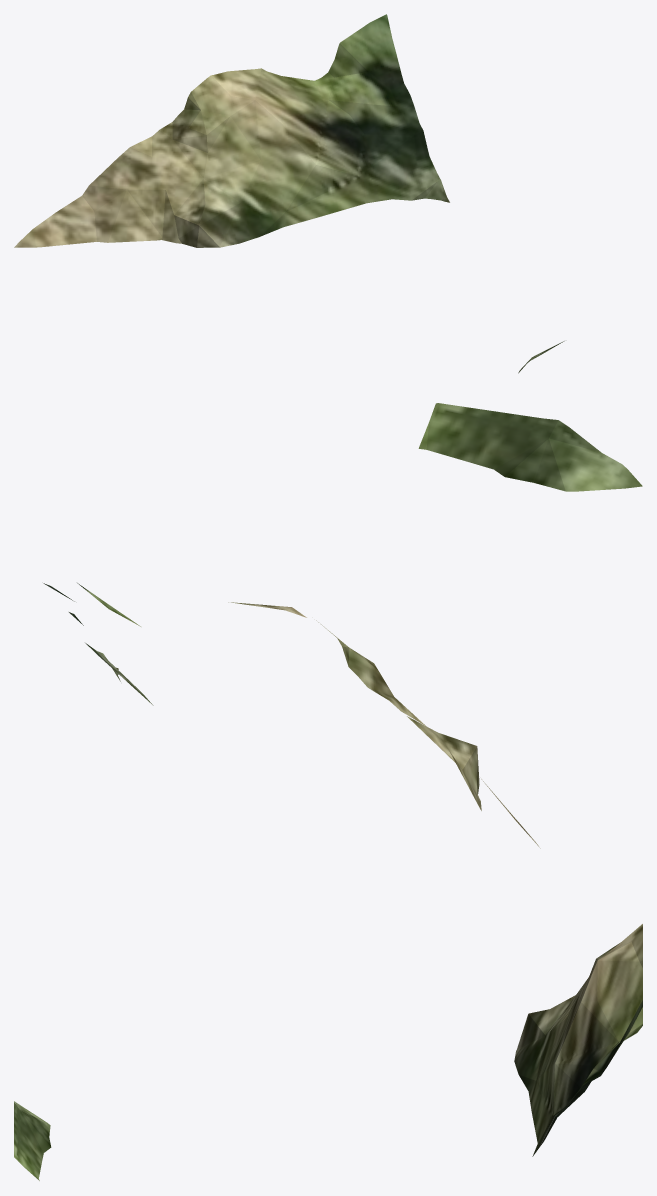
The picture shows the model from 3 angles, top to bottom: view 1: azimuth 30°, elevation 25°; view 2: azimuth 150°, elevation 25°; view 3: azimuth 270°, elevation 25°; orthographic projection. The views are drawn at different scales.
Bounding box in the file's own units: 4.96 × 1.81 × 5.9.
Materials: 1 (1 with a texture image).
